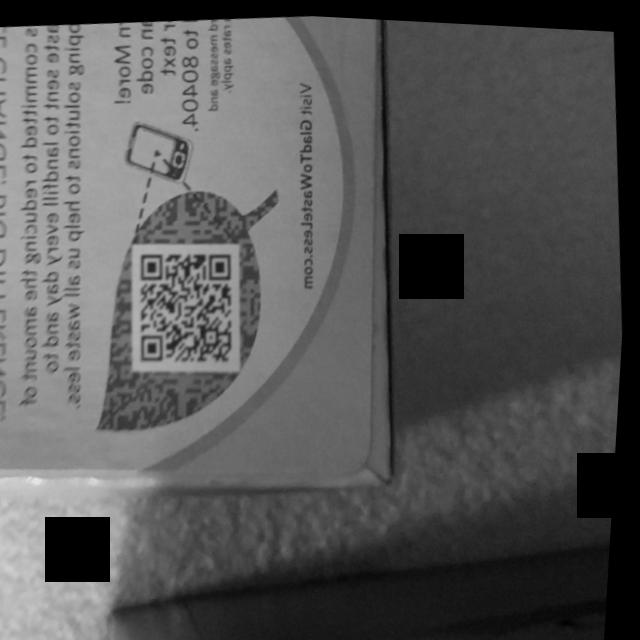QR_CODE: (108, 220, 263, 393)
